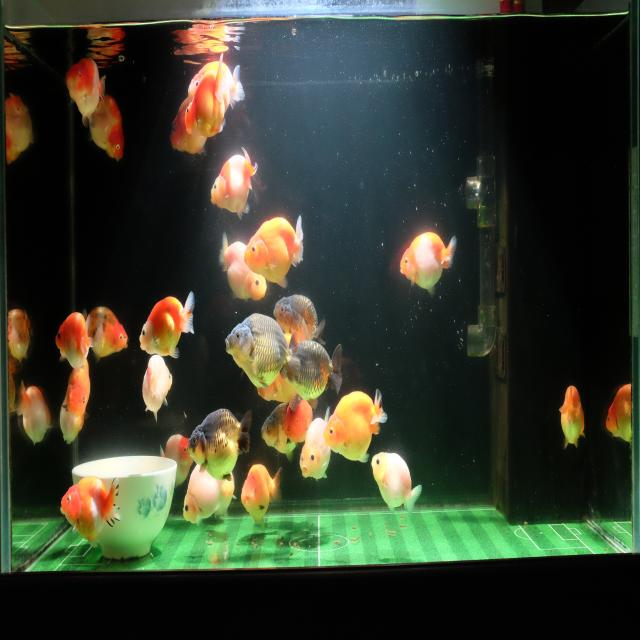Goldfish: (223, 310, 300, 394), (322, 388, 390, 463), (243, 211, 305, 292), (187, 407, 253, 482), (59, 475, 122, 550), (399, 228, 458, 302), (283, 339, 345, 403), (184, 49, 227, 141), (139, 290, 195, 360), (210, 146, 258, 221), (371, 452, 422, 520), (188, 56, 246, 114), (64, 54, 108, 128), (2, 86, 36, 172), (87, 92, 127, 165), (239, 462, 283, 528), (272, 296, 324, 348), (16, 376, 52, 451), (84, 304, 129, 363), (181, 462, 221, 528), (298, 410, 333, 482), (167, 95, 207, 158), (54, 308, 92, 369), (141, 353, 173, 424), (260, 402, 298, 461), (604, 375, 632, 454), (558, 383, 586, 458), (160, 432, 193, 489), (64, 358, 92, 423), (282, 395, 314, 450), (8, 307, 33, 368), (57, 396, 84, 450)
